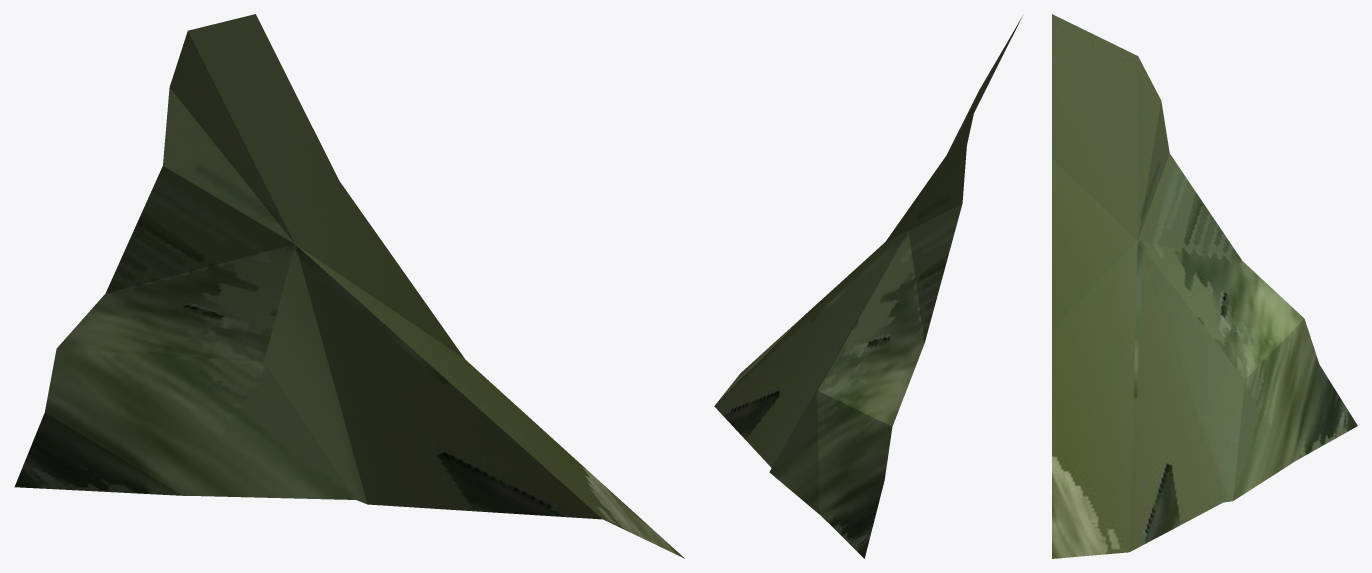
The picture shows the model from 3 angles, left to right: view 1: azimuth 30°, elevation 25°; view 2: azimuth 150°, elevation 25°; view 3: azimuth 270°, elevation 25°; orthographic projection. The views are drawn at different scales.
Bounding box in the file's own units: 1.78 × 2.57 × 1.73.
1 material, 1 textured.
